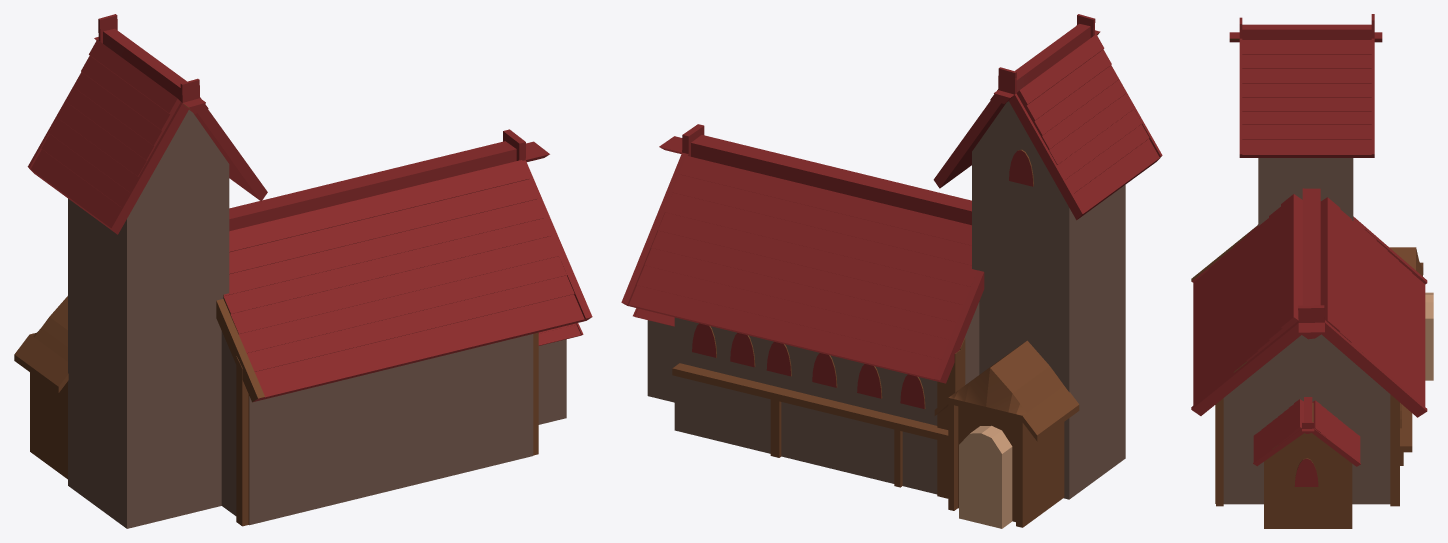
File: house_3_fbx.fbx
3 renders of one model, left to right at view 1: azimuth 30°, elevation 25°; view 2: azimuth 150°, elevation 25°; view 3: azimuth 270°, elevation 25°, orthographic. The views are drawn at different scales.
Parts seen in each view (by area): view 1: house_1; view 2: house_1; view 3: house_1.
Part boxes in pixels (bbox=[...]): house_1: bbox=[14, 14, 592, 528]; house_1: bbox=[621, 14, 1162, 528]; house_1: bbox=[1191, 14, 1433, 528].
Bounding box in the file's own units: 779 × 684 × 418.
Materials: 1 (1 with a texture image).
